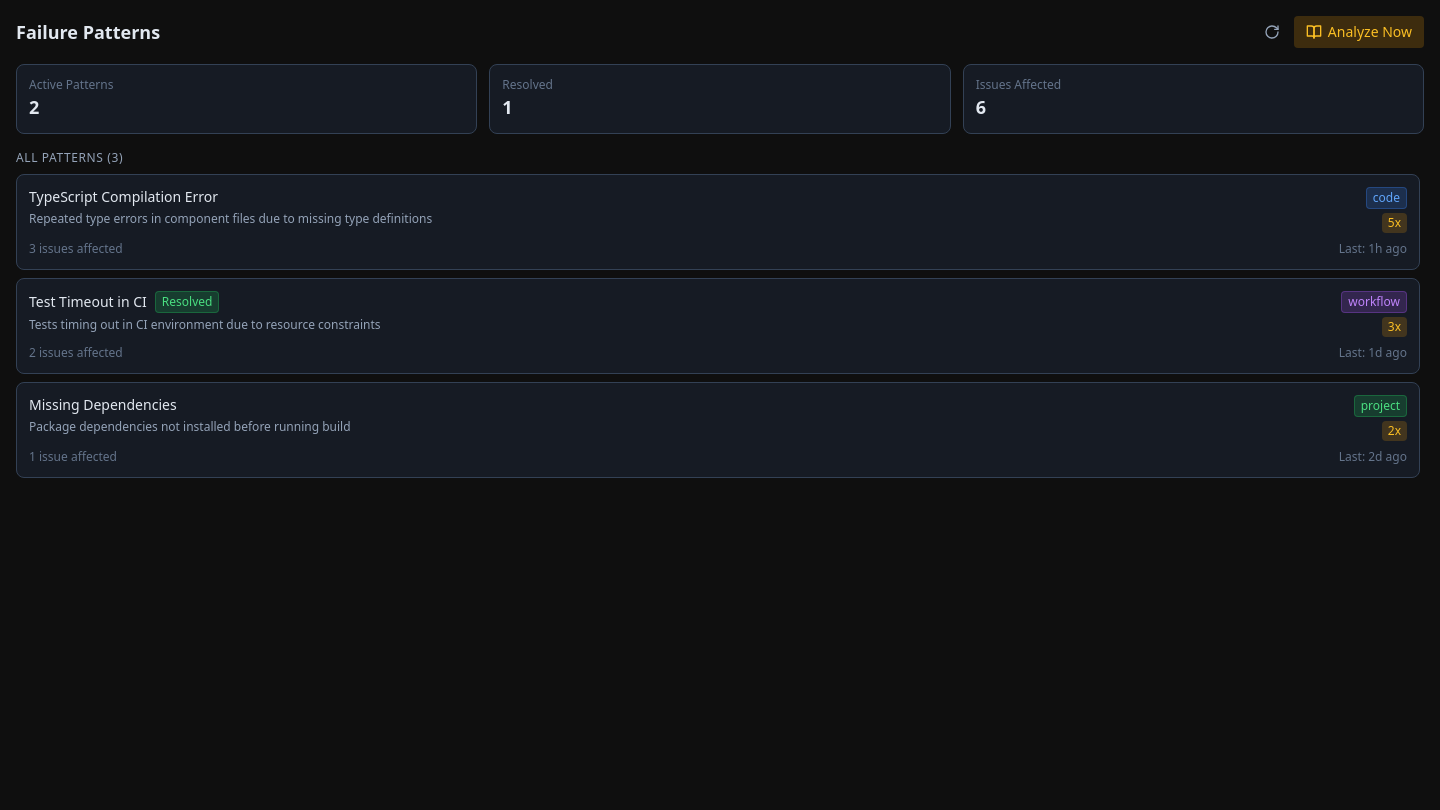
Test: PatternDashboard › Resolve and Delete Actions › should remove pattern from list after delete
Click the button with test id "pattern-card" that starts with "TypeScript Compilation Error". click: [124, 196]
box: [16, 174, 1420, 270]
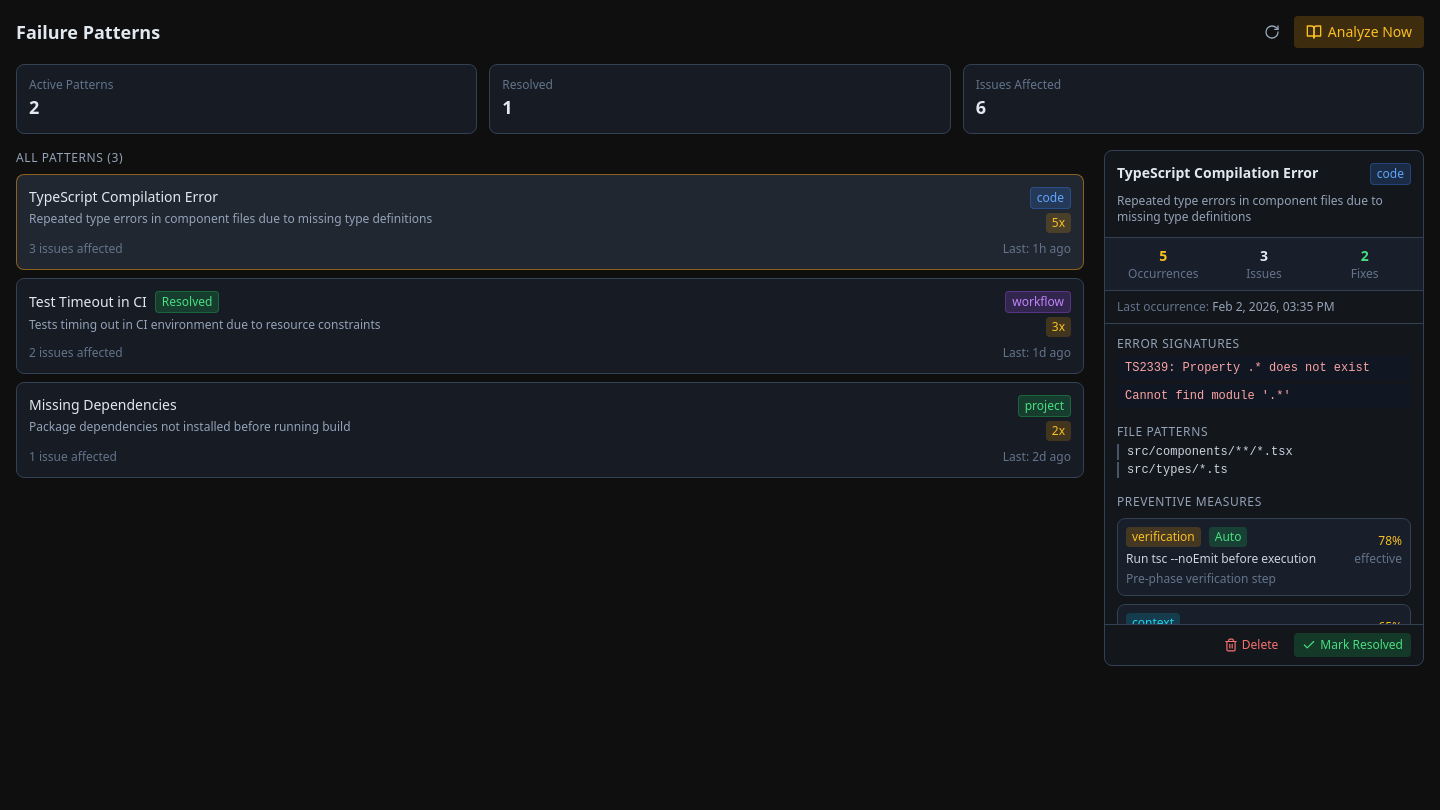
Now the button with test id "delete-button" is shown
Click the button with test id "delete-button". click: [1251, 645]
box: [1216, 633, 1286, 657]
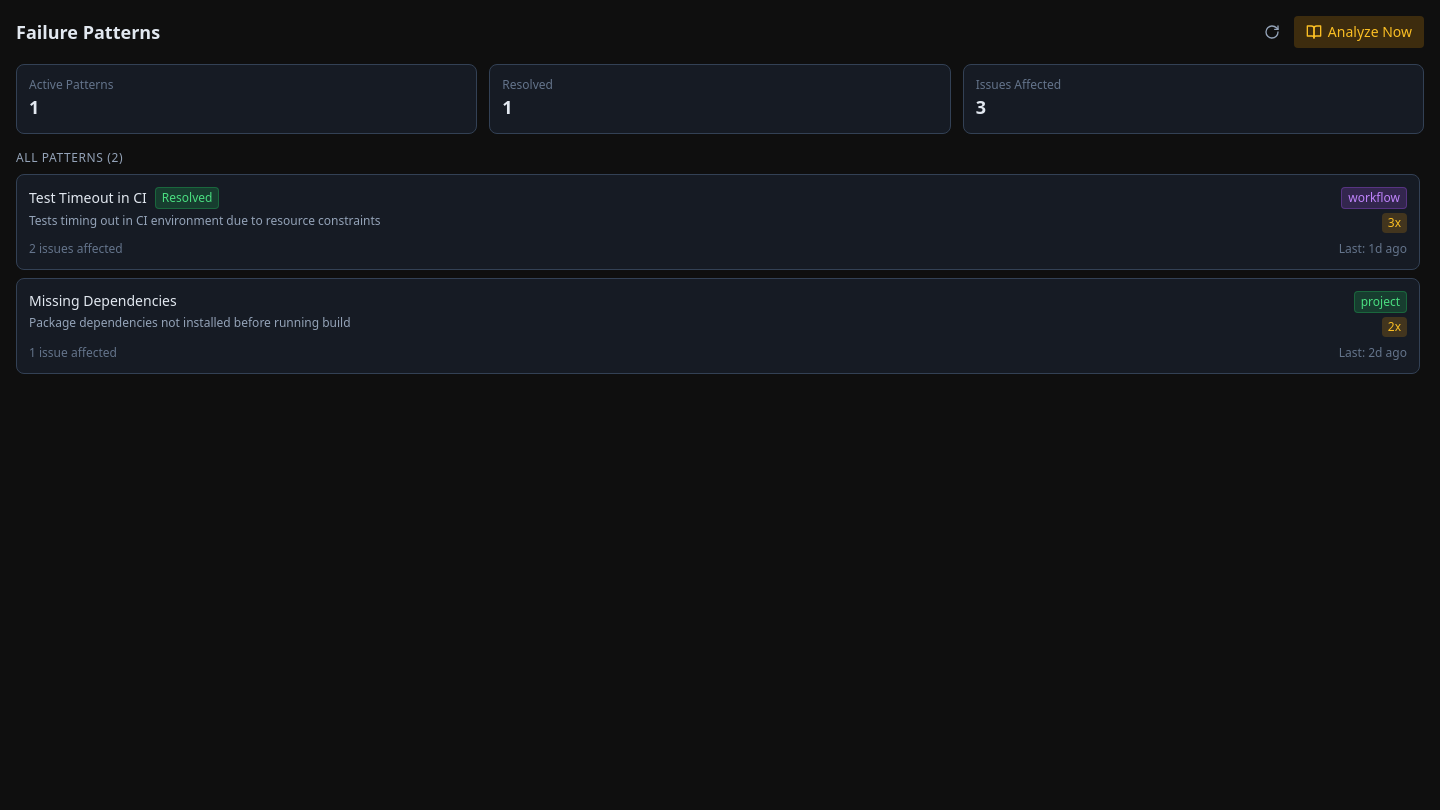
Now the number of buttons with test id "pattern-card" is 2, box [16, 174, 1420, 270]; [16, 278, 1420, 374]
